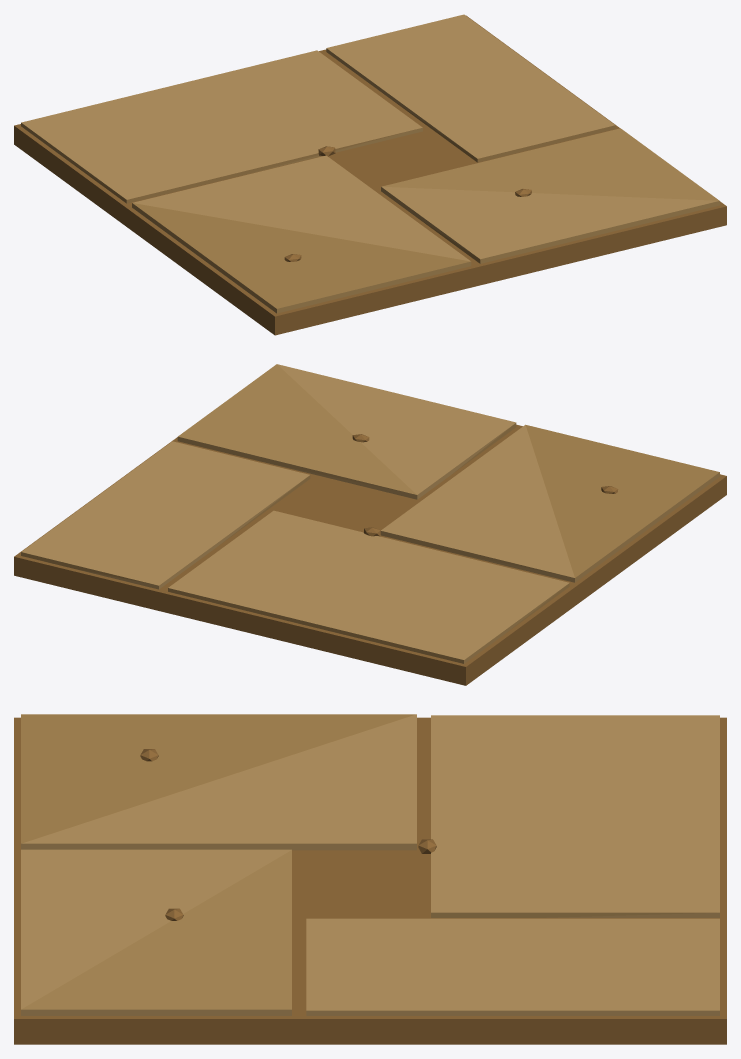
File: kit-egypt-floor.glb
The picture shows the model from 3 angles, top to bottom: view 1: azimuth 30°, elevation 25°; view 2: azimuth 150°, elevation 25°; view 3: azimuth 270°, elevation 25°; orthographic projection. The views are drawn at different scales.
Visible parts, largest first — view 1: kit-egypt-floor; view 2: kit-egypt-floor; view 3: kit-egypt-floor.
Part boxes in pixels (x1,y1,x2,y2): kit-egypt-floor: [14, 14, 726, 335]; kit-egypt-floor: [14, 364, 726, 685]; kit-egypt-floor: [14, 714, 726, 1044].
Size of the model in its own units: 2 by 0.12 by 2.
